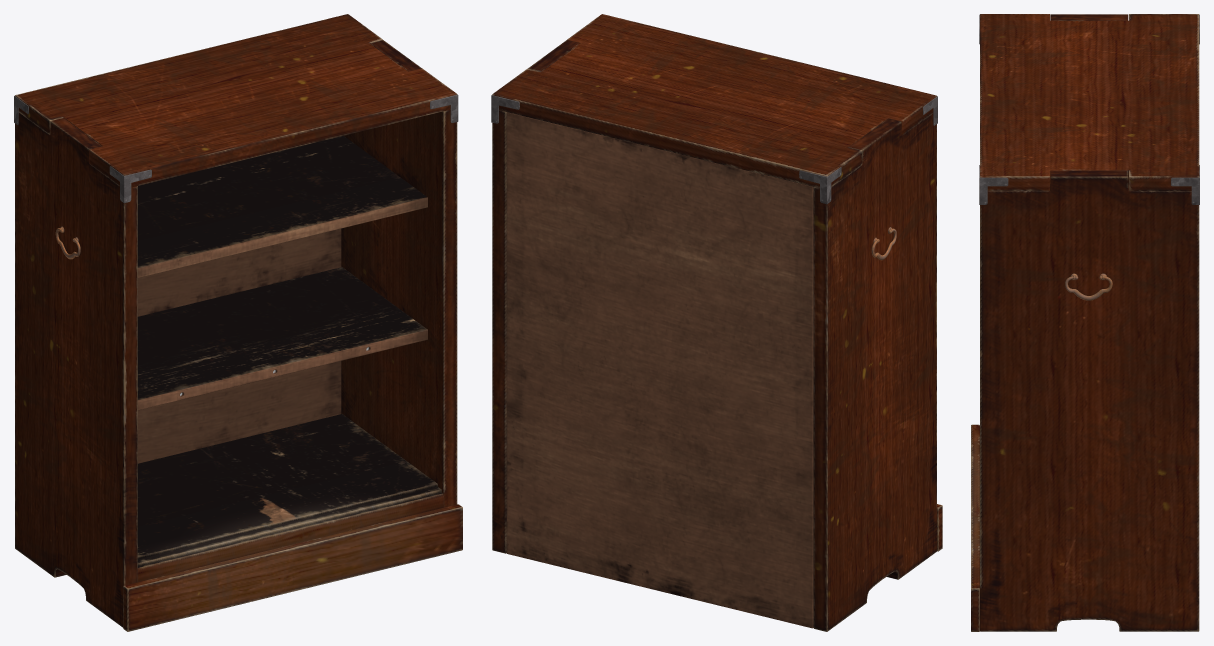
Rendered from SM_BootCupboard.fbx.
3 renders of one model, left to right at view 1: azimuth 30°, elevation 25°; view 2: azimuth 150°, elevation 25°; view 3: azimuth 270°, elevation 25°, orthographic.
Visible parts, largest first — view 1: SM_BootCupboard; view 2: SM_BootCupboard; view 3: SM_BootCupboard.
Boxes of the visible parts, box(x1,y1,x2,y2) form: SM_BootCupboard: box(14, 14, 462, 631); SM_BootCupboard: box(491, 14, 942, 631); SM_BootCupboard: box(971, 14, 1199, 631).
Size of the model in its own units: 61.61 by 78.71 by 35.91.
